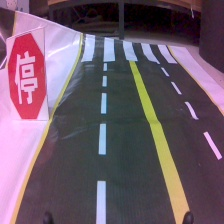stop: (6, 27, 52, 123)
